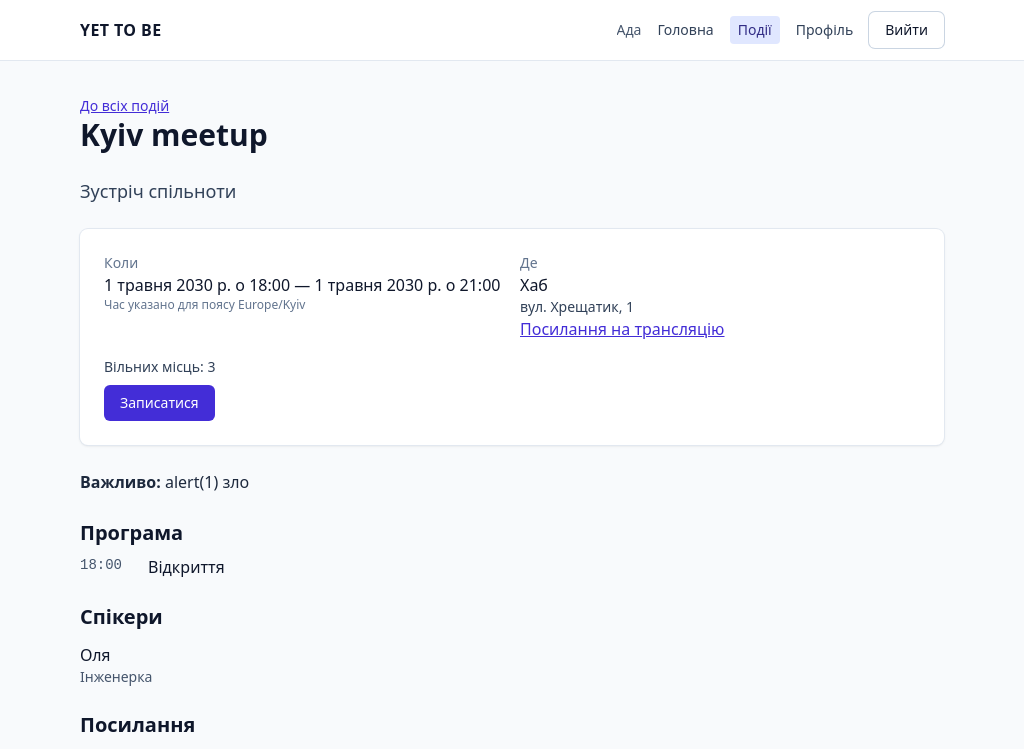
публічні події › користувач записується, і кнопка змінюється на «Ви записані»
Click the button "Записатися" at (159, 403), box [104,385,215,421]
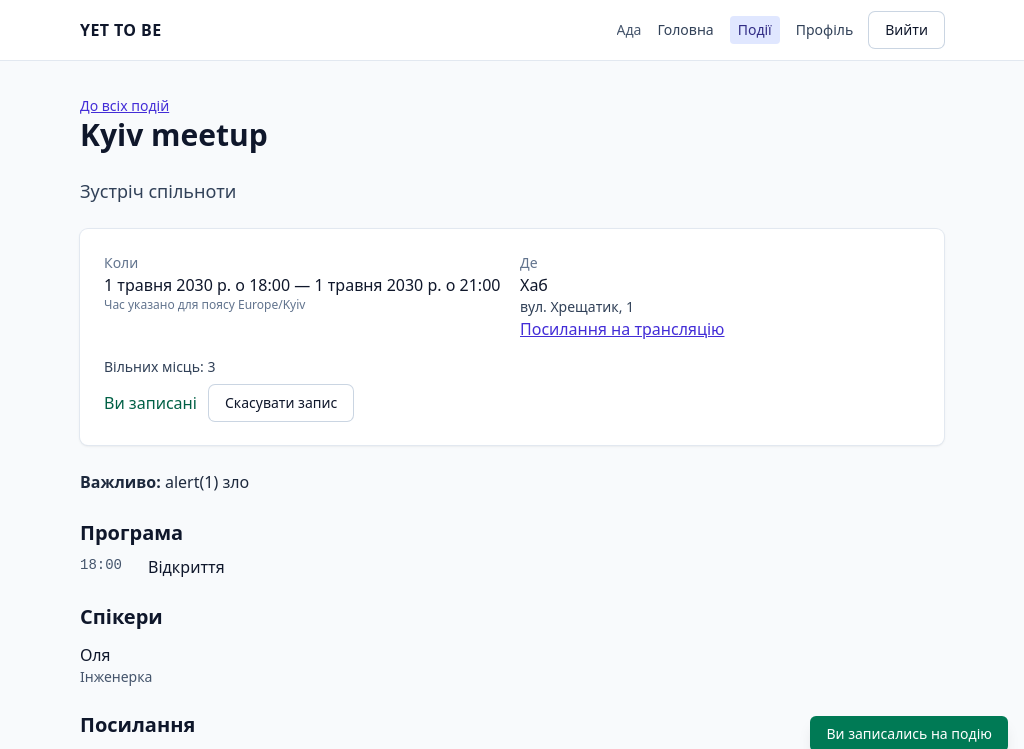
Result: the text "Ви записані" is shown at [104,391,197,415]
Click the button "Скасувати запис" at (281, 403), box [209,385,353,421]
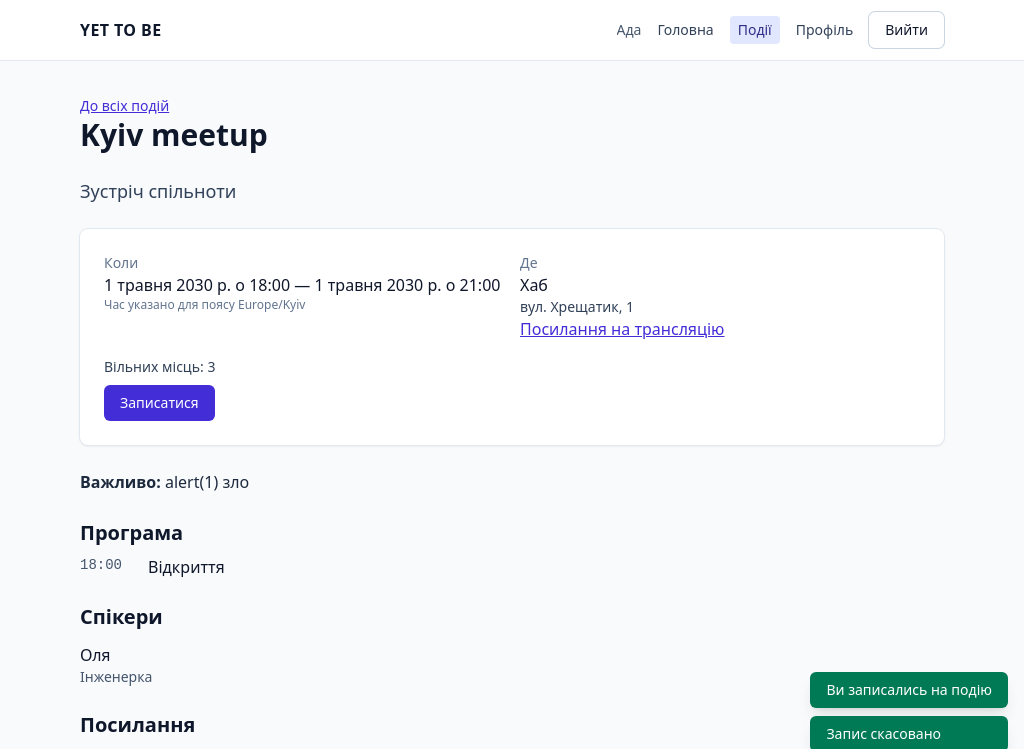
Result: the button "Записатися" is shown at [104,385,215,421]
